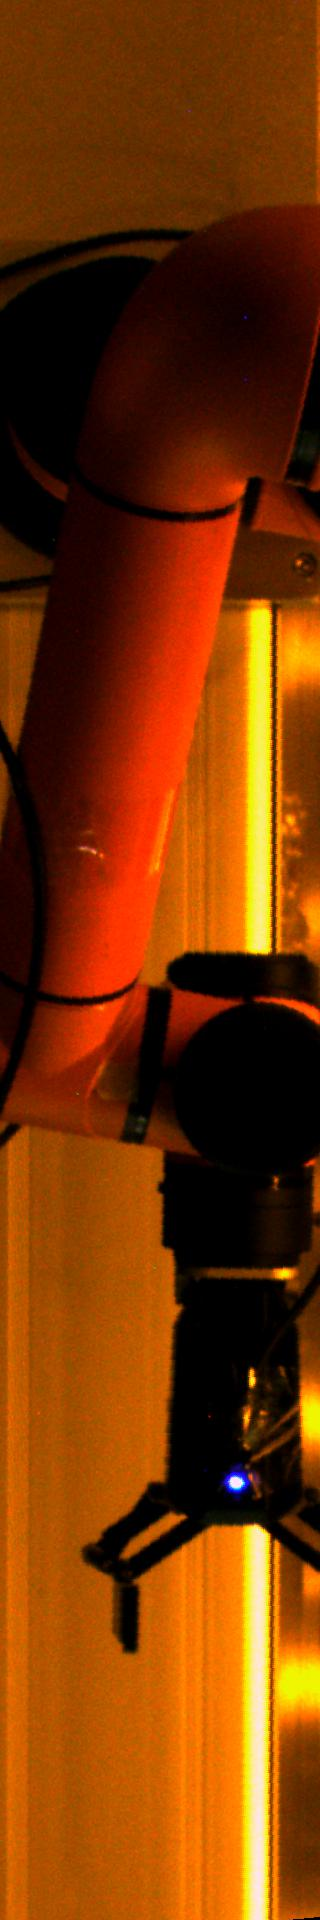keyPoint_1: (221, 1464, 251, 1494)
